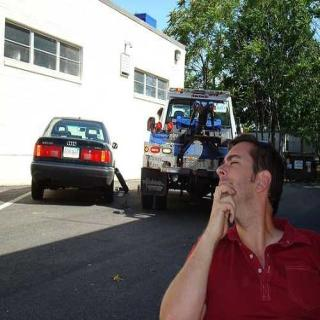Towing_truck: (138, 85, 239, 210)
